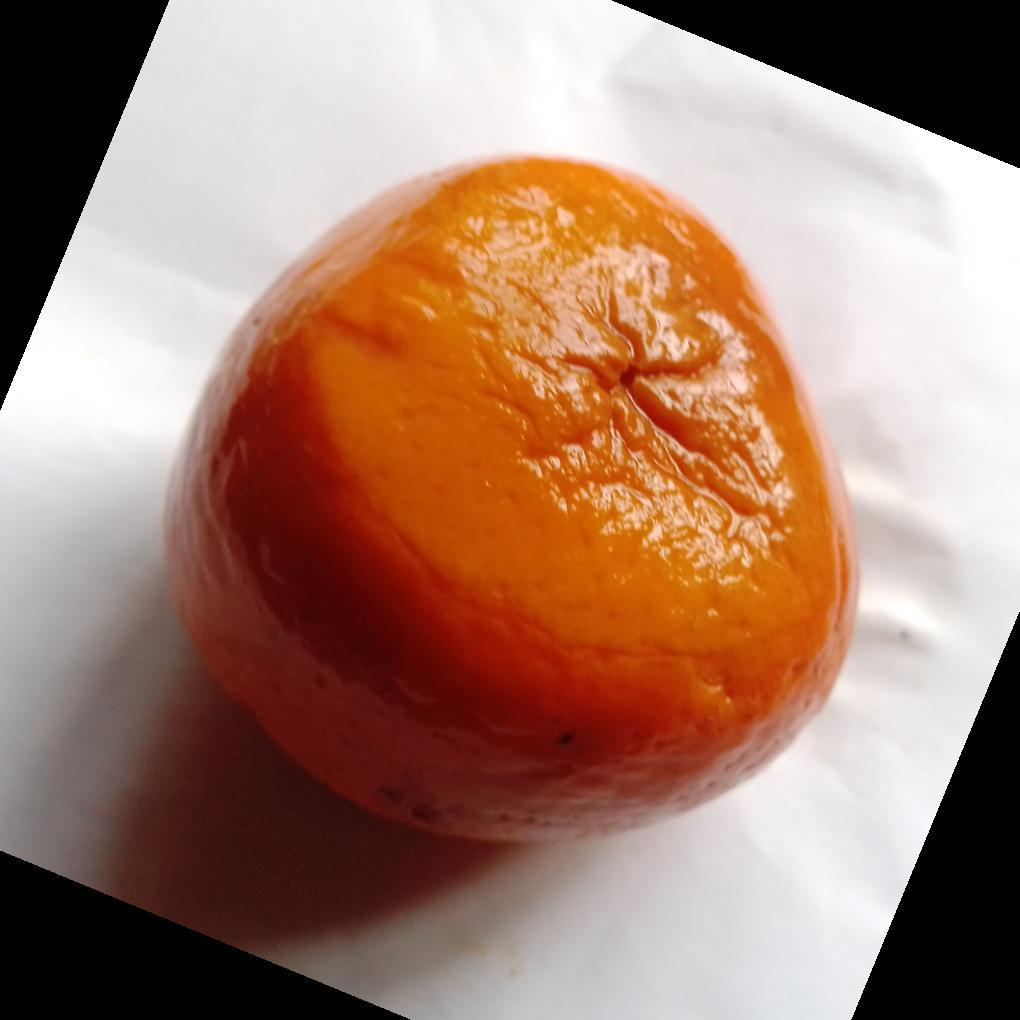FreshOrange: (161, 155, 860, 850)
